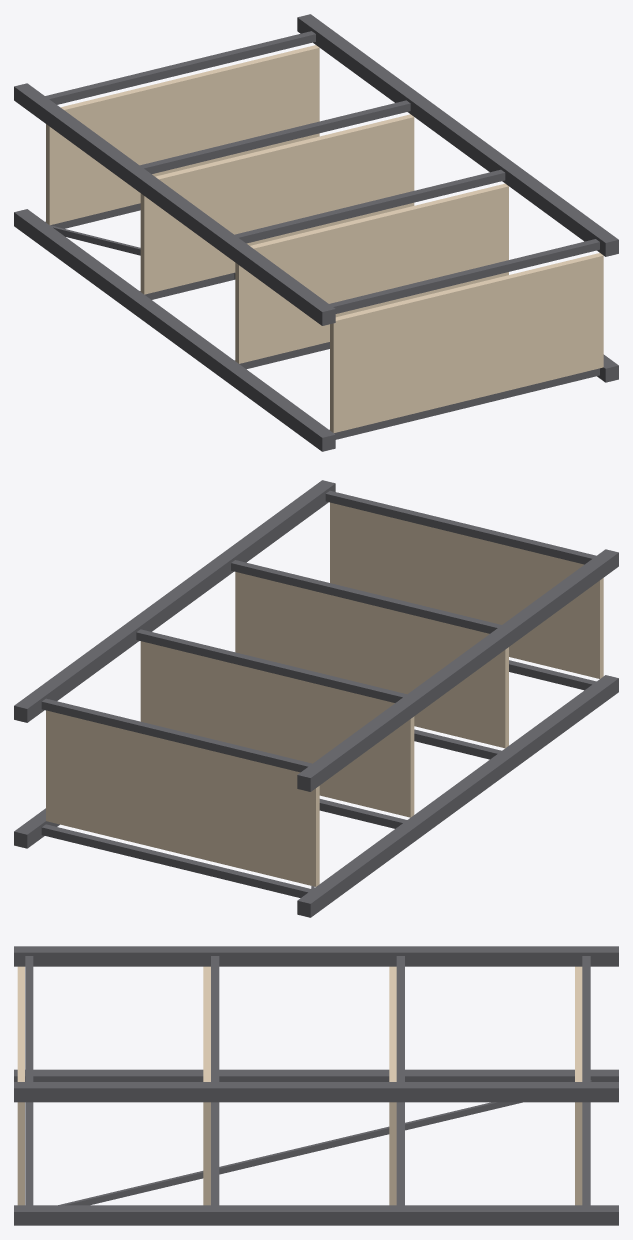
File: rack.glb
3 views of the same model, one above another, from view 1: azimuth 30°, elevation 25°; view 2: azimuth 150°, elevation 25°; view 3: azimuth 270°, elevation 25° (orthographic).
Visible parts, largest first — view 1: plywood, metal_black; view 2: plywood, metal_black; view 3: metal_black, plywood.
Part boxes in pixels (x1,y1,x2,y2): plywood: (46, 45, 603, 432); metal_black: (14, 14, 618, 451); plywood: (46, 502, 603, 886); metal_black: (14, 480, 618, 917); metal_black: (14, 946, 618, 1225); plywood: (17, 966, 582, 1205).
Bounding box in the file's own units: 1 × 0.45 × 1.8.
